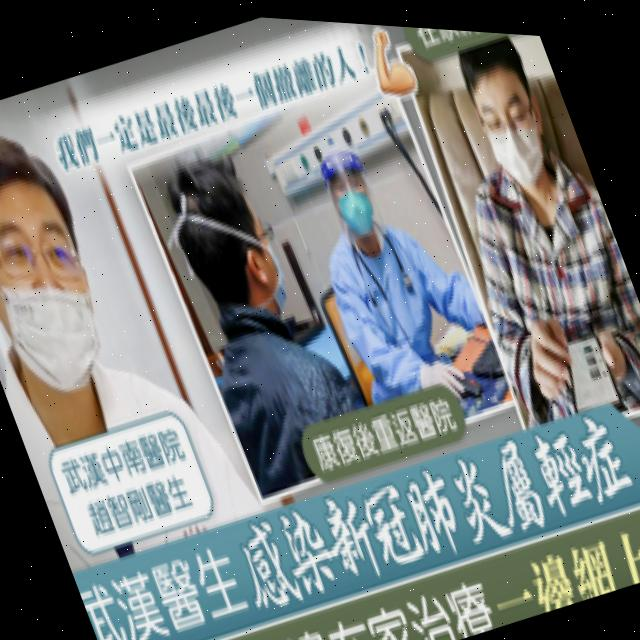Mask: (0, 228, 119, 407), (484, 104, 558, 189), (332, 182, 383, 239)
